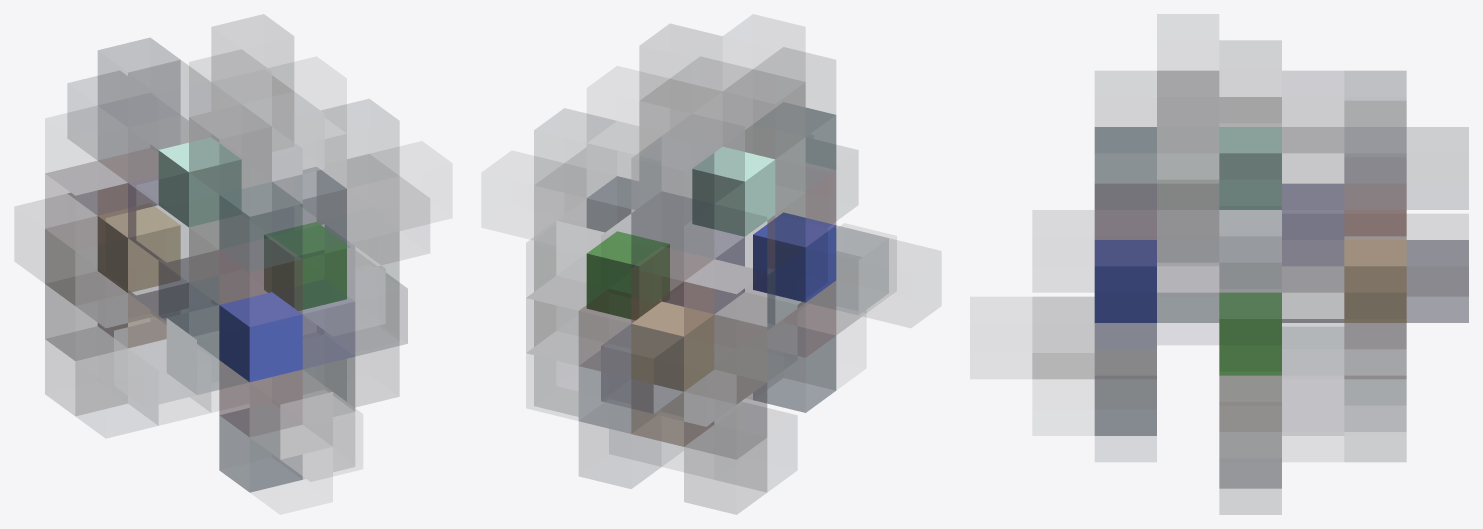
The model's file is iter_5.obj.
The picture shows the model from 3 angles, left to right: view 1: azimuth 30°, elevation 25°; view 2: azimuth 150°, elevation 25°; view 3: azimuth 270°, elevation 25°; orthographic projection. The views are drawn at different scales.
Visible parts, largest first — view 1: iter_5; view 2: iter_5; view 3: iter_5.
Boxes of the visible parts, left/top/right/bottom form: iter_5: left=45, top=14, right=429, bottom=492; iter_5: left=526, top=24, right=896, bottom=514; iter_5: left=1032, top=41, right=1468, bottom=514.
Size of the model in its own units: 0.7 by 0.7 by 0.8.
